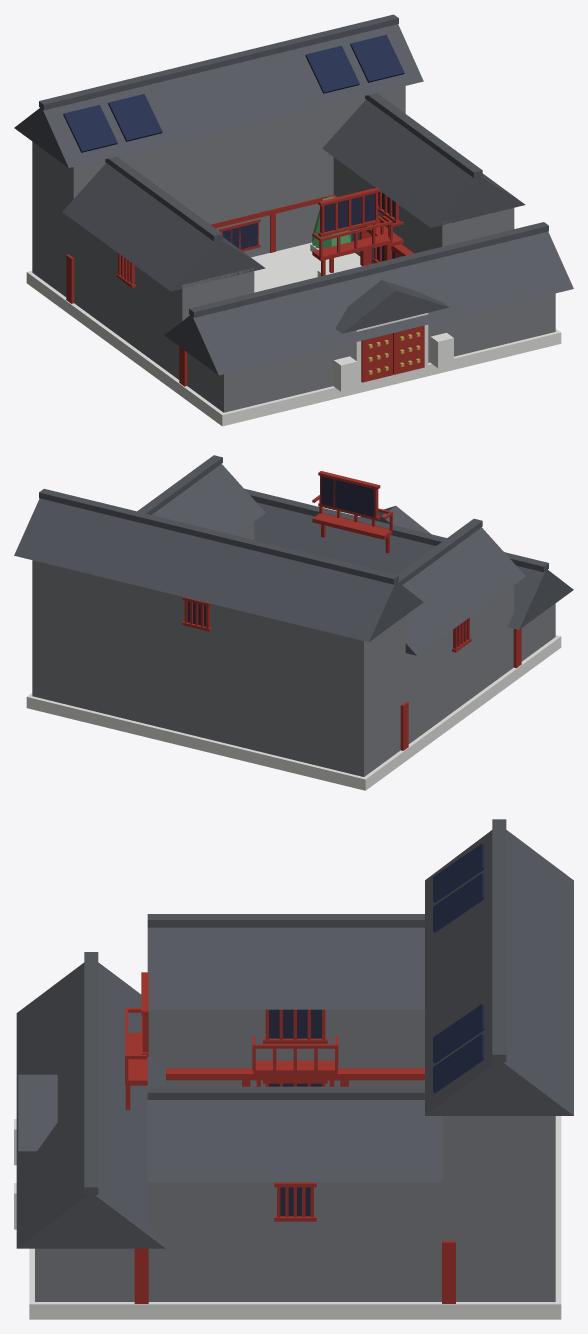
Rendered from house-2x2-3f-siheyuan-a-solar.glb.
The picture shows the model from 3 angles, top to bottom: view 1: azimuth 30°, elevation 25°; view 2: azimuth 150°, elevation 25°; view 3: azimuth 270°, elevation 25°; orthographic projection. The views are drawn at different scales.
Visible parts, largest first — view 1: house-2x2-3f-siheyuan-a-solar; view 2: house-2x2-3f-siheyuan-a-solar; view 3: house-2x2-3f-siheyuan-a-solar.
Boxes of the visible parts, box(x1,y1,x2,y2) form: house-2x2-3f-siheyuan-a-solar: box(14, 14, 573, 426); house-2x2-3f-siheyuan-a-solar: box(14, 455, 573, 790); house-2x2-3f-siheyuan-a-solar: box(14, 819, 573, 1319).
Bounding box in the file's own units: 1.98 × 1.06 × 1.99.
Materials: 1 (1 with a texture image).
